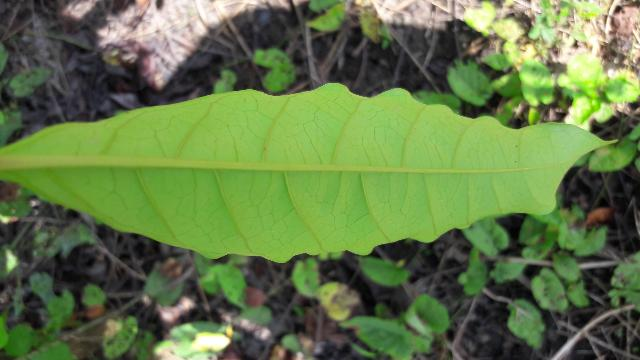healthy: (0, 81, 606, 266)
